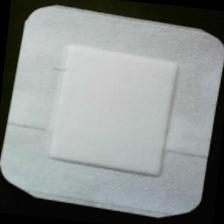Dressing: (1, 1, 224, 224)
F_Body: (48, 58, 77, 84)
